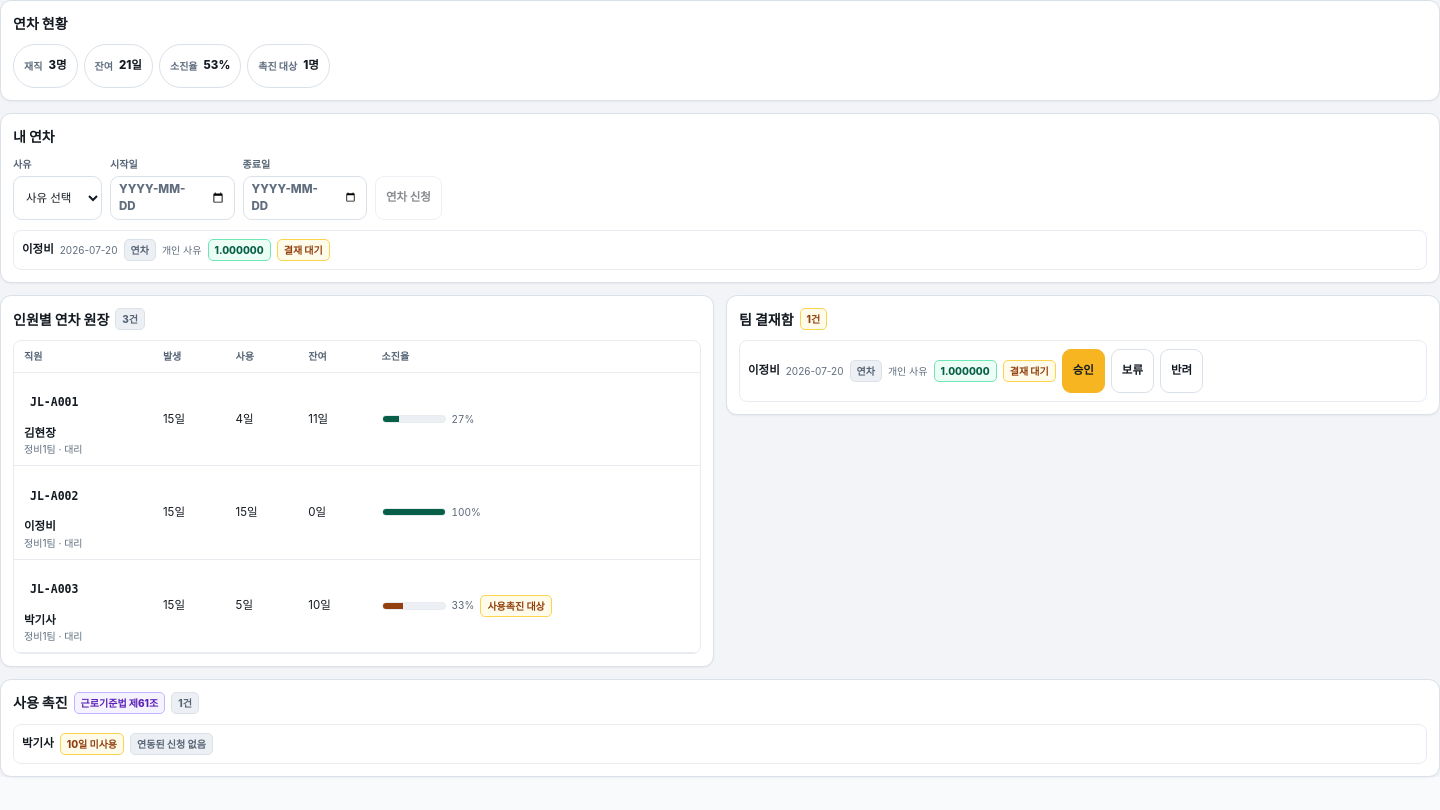
Scenario: LeaveConsole (레인1 leave 카드 존, real-wired) › 반려 requires a comment before it decides, then surfaces a backend error verbatim
The image size is (1440, 810).
Click the button "반려". click: (1182, 371)
box: [1160,349,1203,393]
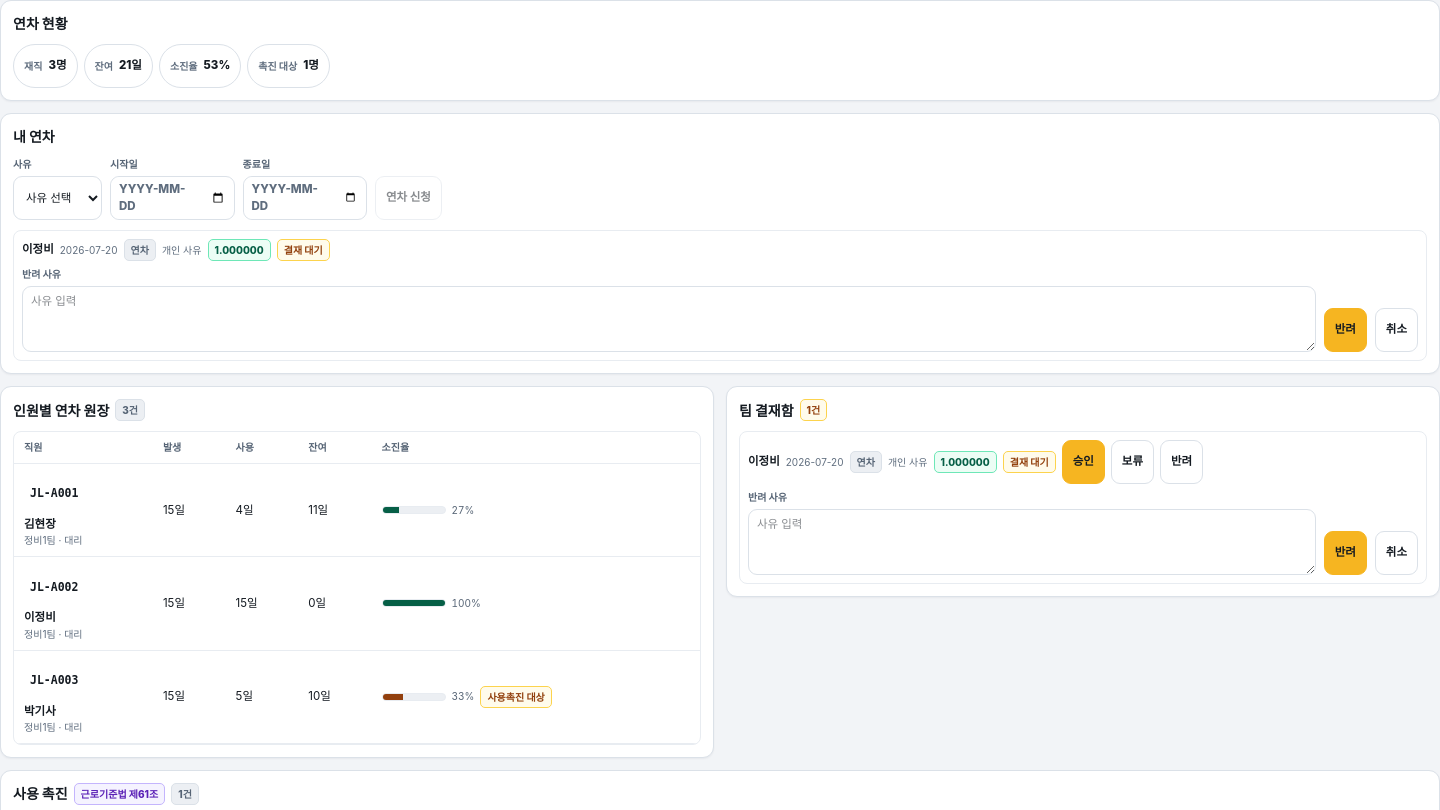
# Fail-closed: submitting with no comment never calls decide.
Click the 3rd button "반려". click: (1345, 553)
box: [1324,531,1367,575]
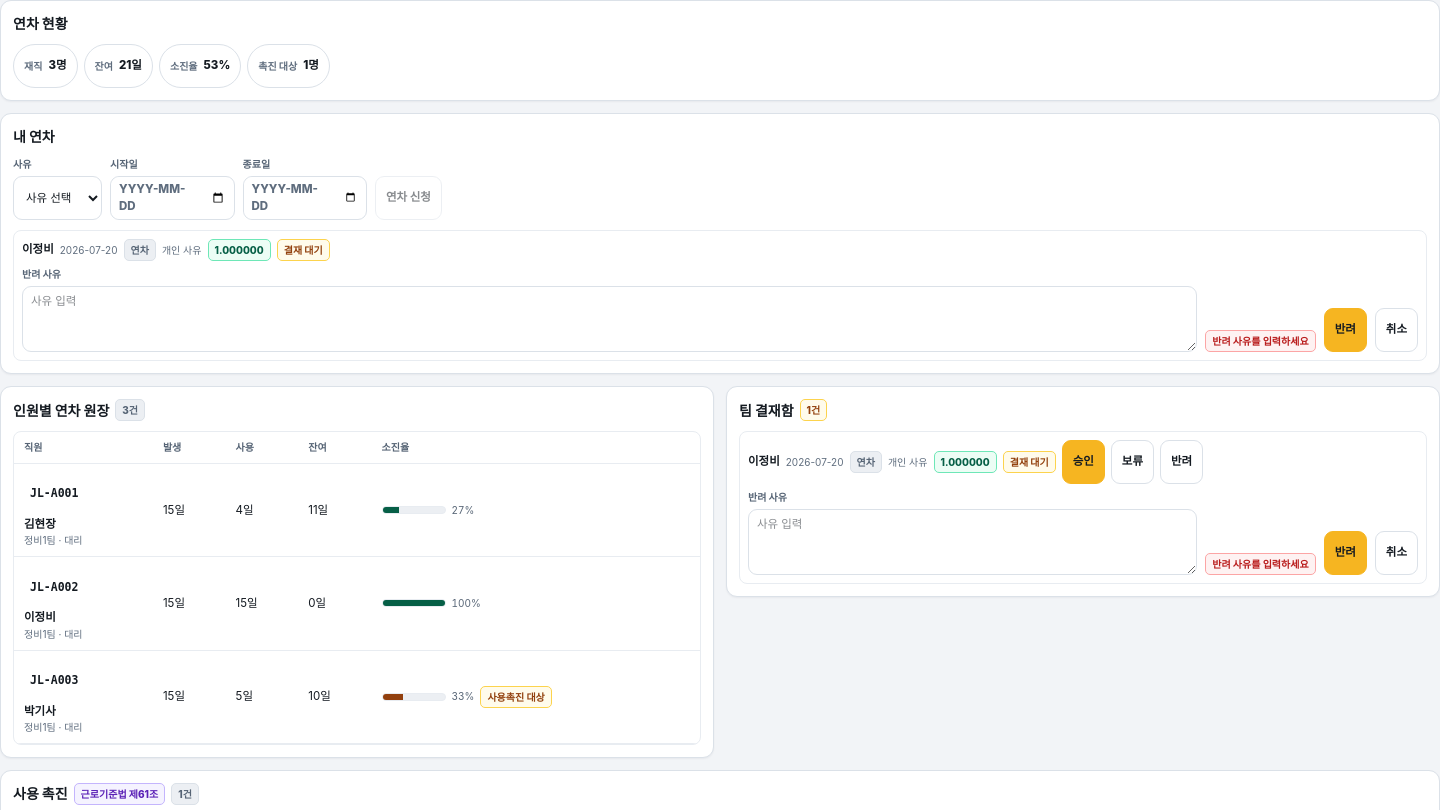
Check: the 2nd text "반려 사유를 입력하세요" is shown, box [1205,553,1316,575]
Type "일정 재조정 필요" into the text box labelled "반려 사유" below "팀 결재함". click: (973, 542)
box: [748,509,1197,575]
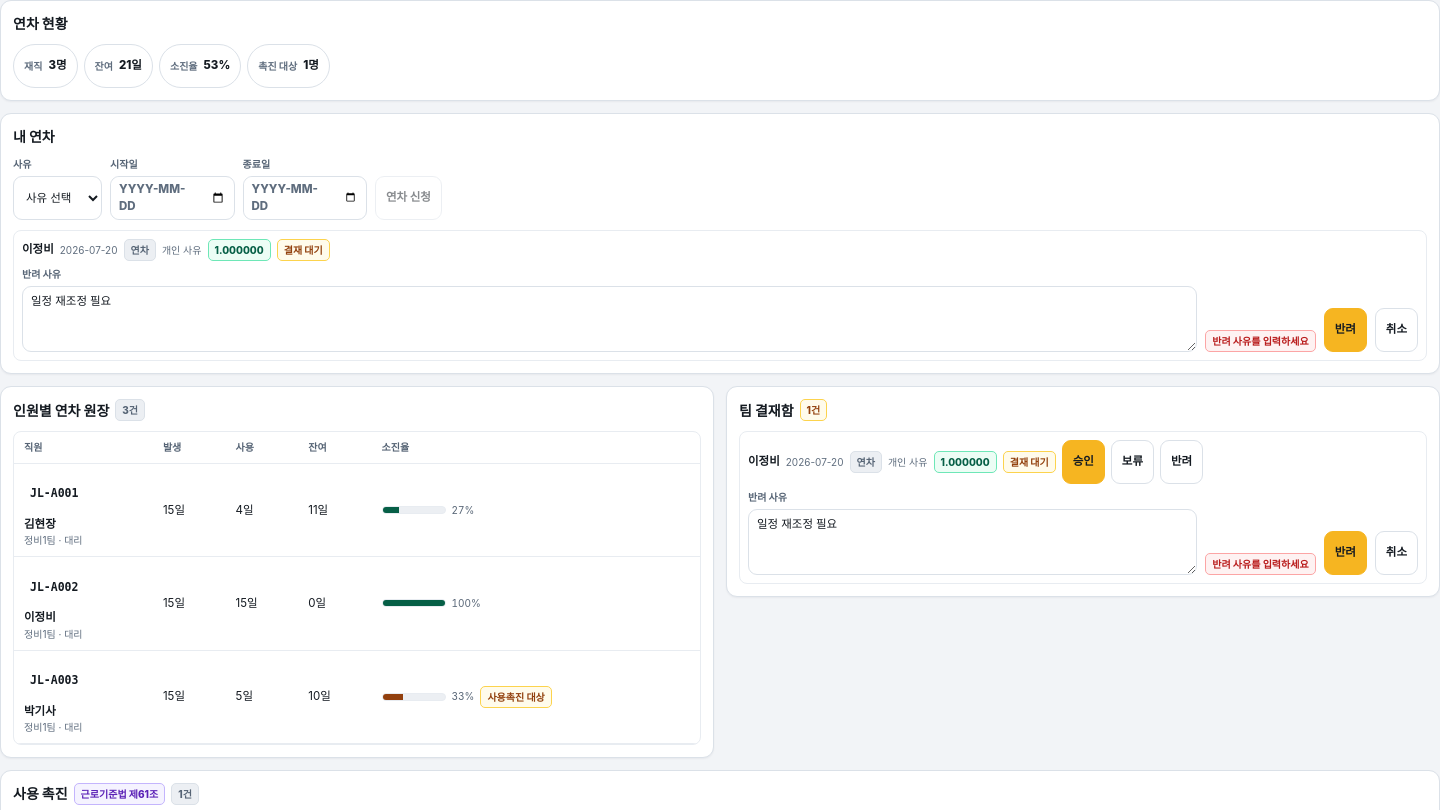
Click the 3rd button "반려". click: (1345, 553)
box: [1324,531,1367,575]
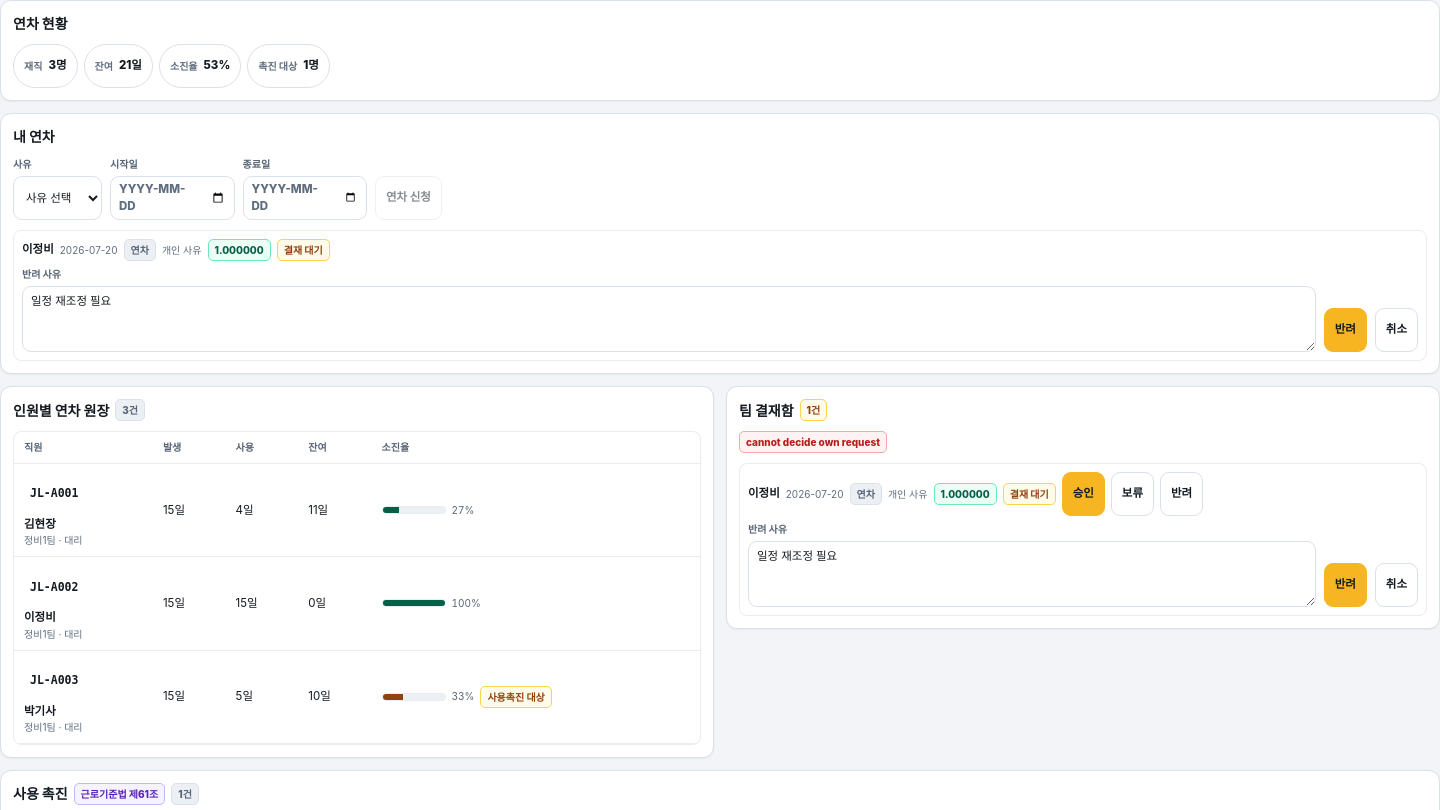
Check: the text "cannot decide own request" is shown, box [739,431,887,453]
